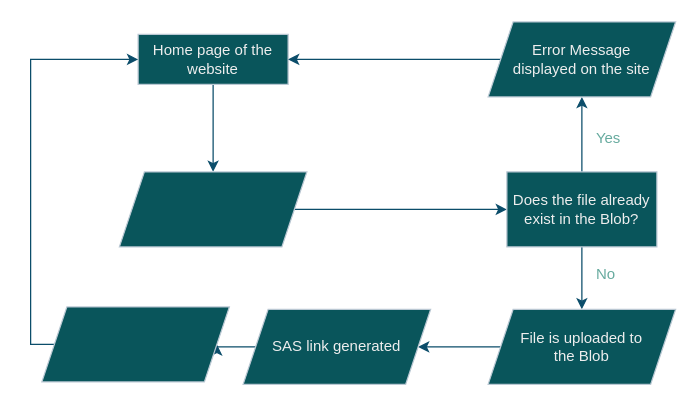
The diagram is 698 pixels wide and 406 high, and some of its shapes have lost their labels. The box of each missing label's shape, as (x1, y1, x2, y2) in pixels:
SAS link outputted to website: (41, 306, 229, 382)
User uploads a file: (118, 171, 307, 247)
